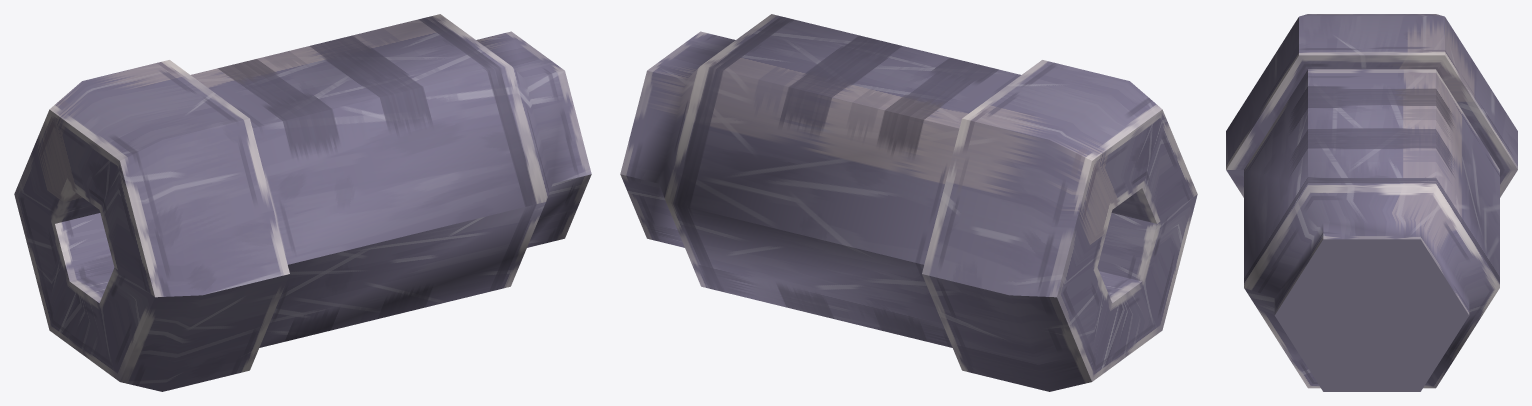
File: att_compensator_low.fbx
3 views of the same model, side by side, from view 1: azimuth 30°, elevation 25°; view 2: azimuth 150°, elevation 25°; view 3: azimuth 270°, elevation 25° (orthographic). The views are drawn at different scales.
Parts seen in each view (by area): view 1: att_compensator; view 2: att_compensator; view 3: att_compensator.
Boxes of the visible parts, x1,y1,x2,y2 form: att_compensator: [14, 14, 591, 391]; att_compensator: [620, 14, 1197, 391]; att_compensator: [1226, 14, 1517, 391].
Size of the model in its own units: 0.2175 by 0.1155 by 0.1334.
1 material, 1 textured.
